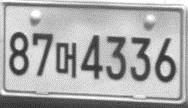3: (129, 36, 151, 82), (105, 36, 127, 80)
4: (79, 33, 103, 80)
6: (153, 35, 177, 82)
7: (31, 31, 54, 77)
8: (8, 30, 29, 76)
머: (55, 41, 77, 79)
